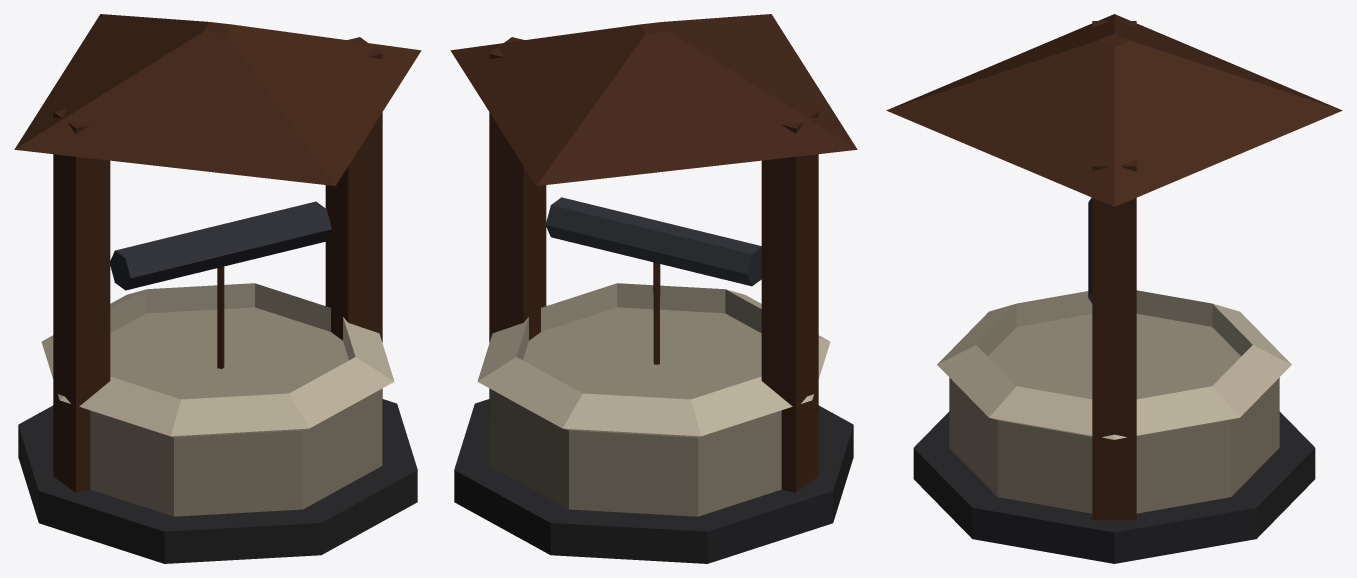
3 views of the same model, side by side, from view 1: azimuth 30°, elevation 25°; view 2: azimuth 150°, elevation 25°; view 3: azimuth 270°, elevation 25° (orthographic). The views are drawn at different scales.
Visible parts, largest first — view 1: WK_InnerKeep_CivicWell_Canopied_LOD2_Compact; view 2: WK_InnerKeep_CivicWell_Canopied_LOD2_Compact; view 3: WK_InnerKeep_CivicWell_Canopied_LOD2_Compact.
Part boxes in pixels (x1,y1,x2,y2): WK_InnerKeep_CivicWell_Canopied_LOD2_Compact: (14, 14, 421, 563); WK_InnerKeep_CivicWell_Canopied_LOD2_Compact: (450, 14, 857, 563); WK_InnerKeep_CivicWell_Canopied_LOD2_Compact: (886, 14, 1342, 563).
Size of the model in its own units: 3.4 by 3.6 by 3.4.
